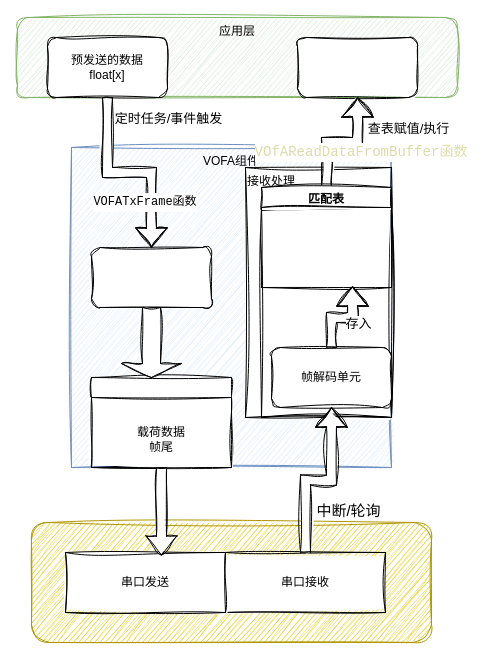
Image size: 485x660. Some labels were removed from this diagram. The box of each missing label's shape, as (x1, y1, x2, y2) in pixels:
frame: (90, 376, 232, 468)
发送数据打包单元: (90, 246, 212, 308)
就绪状态 ID 载荷数据: (260, 206, 392, 288)
接收数据消费区: (296, 36, 418, 98)
硬件层: (30, 522, 432, 642)
